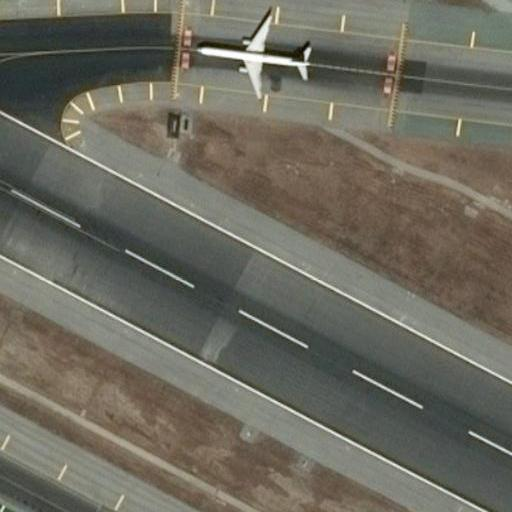Aircraft: (190, 2, 312, 106)
